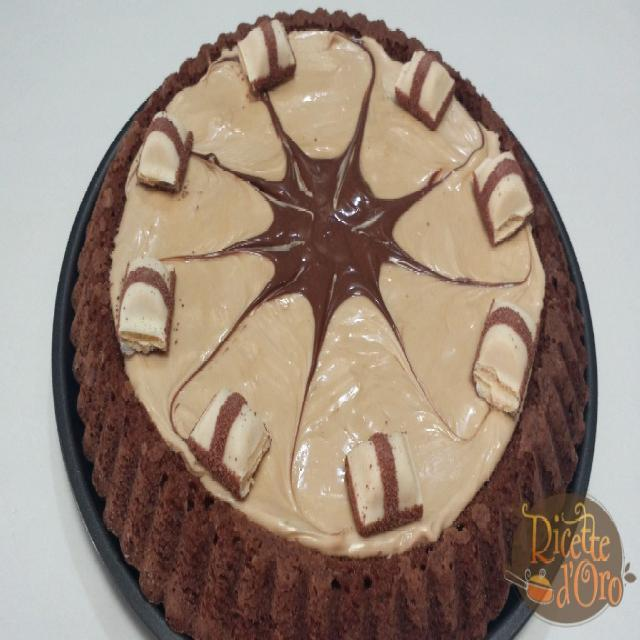Chocolate bar packaged: (186, 383, 276, 499), (342, 426, 430, 530), (473, 297, 539, 419), (114, 256, 181, 355), (473, 147, 542, 241), (398, 41, 458, 127), (237, 14, 300, 90), (135, 110, 195, 186)
